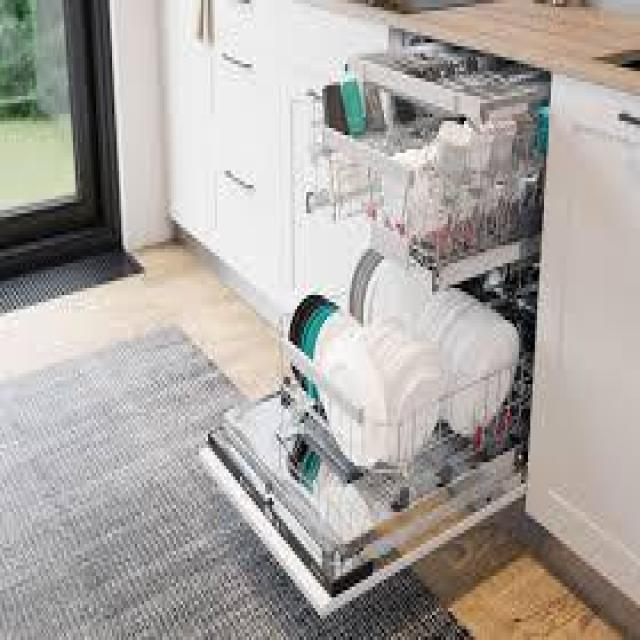dishwasher: (194, 0, 544, 619)
